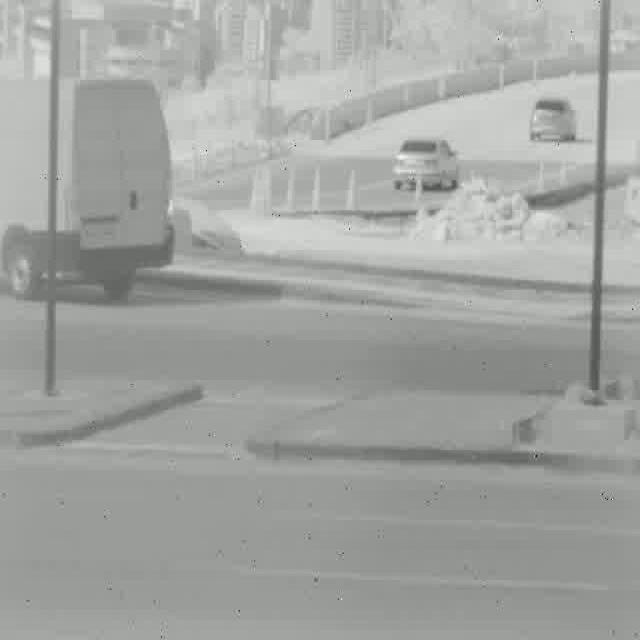Car: (0, 80, 170, 308), (392, 140, 460, 190), (530, 98, 577, 142)
